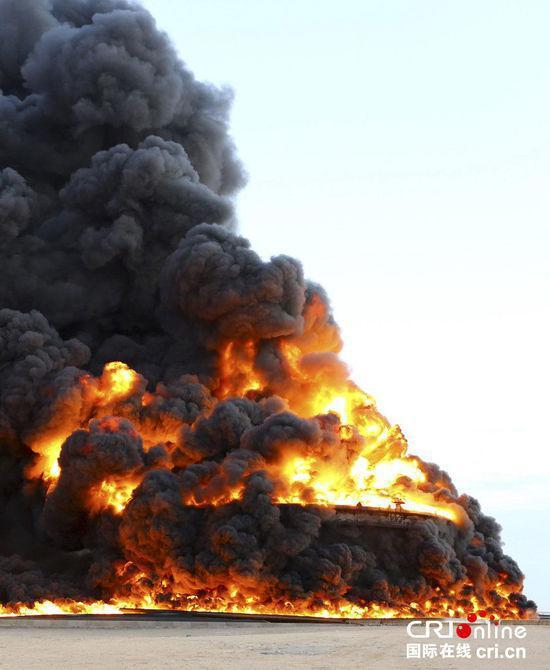fire: (25, 290, 470, 521), (4, 595, 538, 618)
